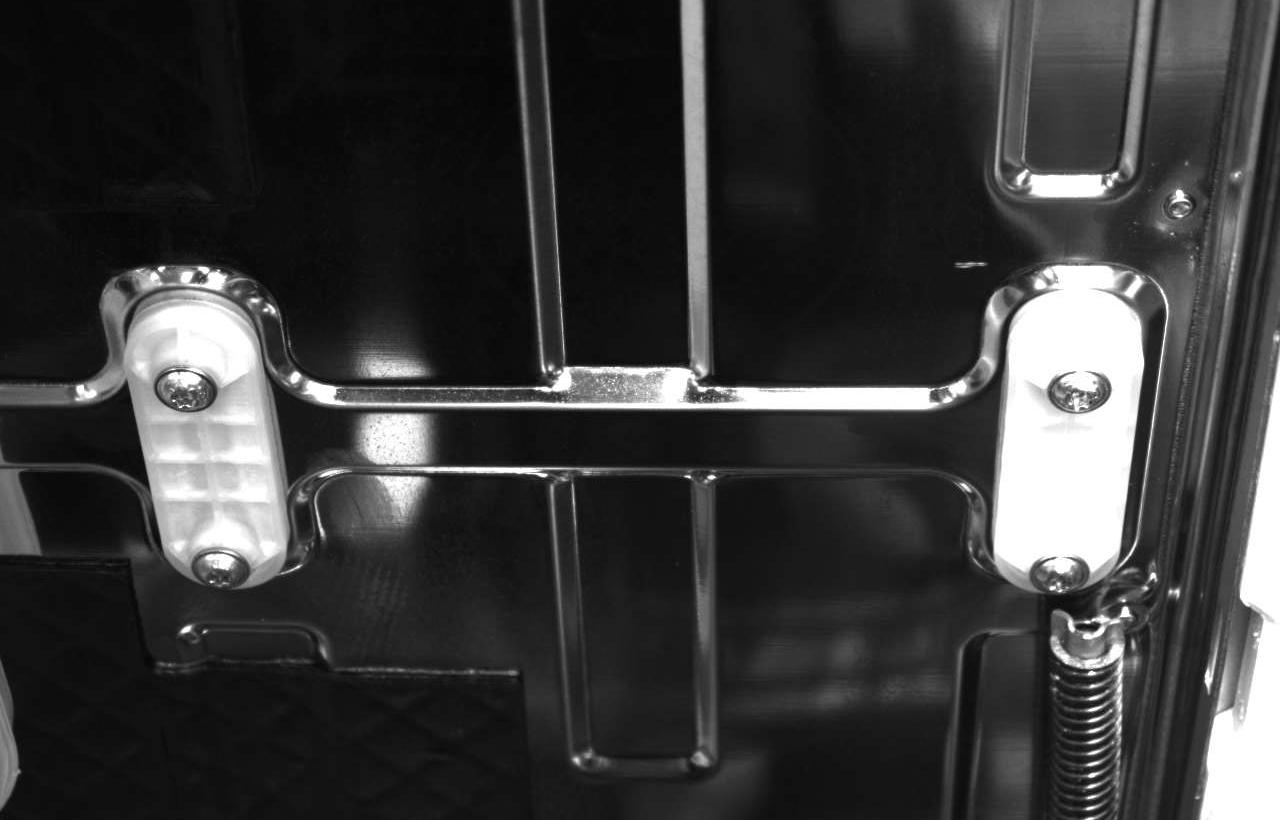vida-ok: (153, 359, 224, 427), (1053, 361, 1120, 428), (187, 537, 253, 595), (1030, 547, 1096, 605)
